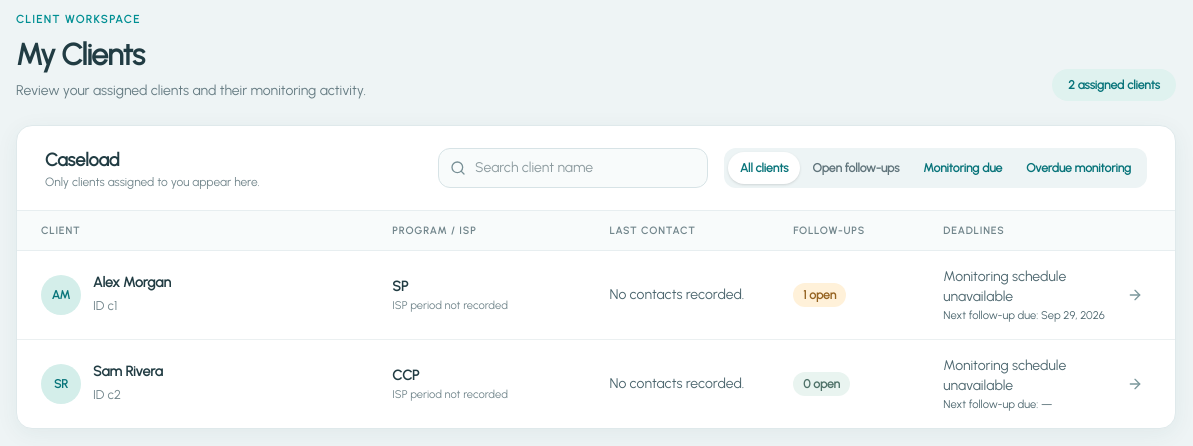
Test: shows assigned clients with missing-data copy and filters locally
expect the text "Alex Morgan" is shown: met, box [93,272,171,292]
expect the text "ISP period not recorded" is shown 2 times: met, box [392,298,508,312]; [392,386,508,400]
Click the button "Open follow-ups" at (856, 168), box [800,152,911,184]
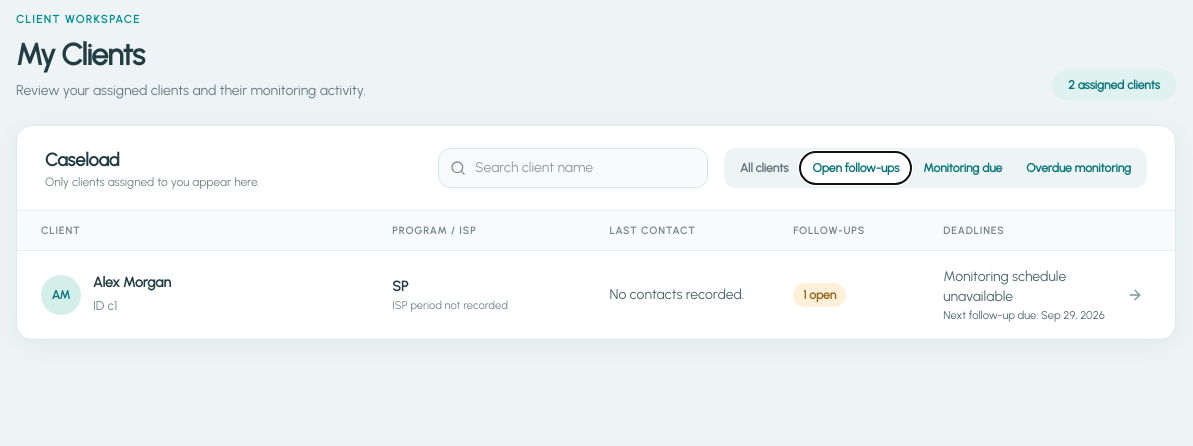
expect the link "Sam Rivera" is gone: met
Type "missing" into the search field named "Search clients" at (573, 168), box [438,148,708,188]
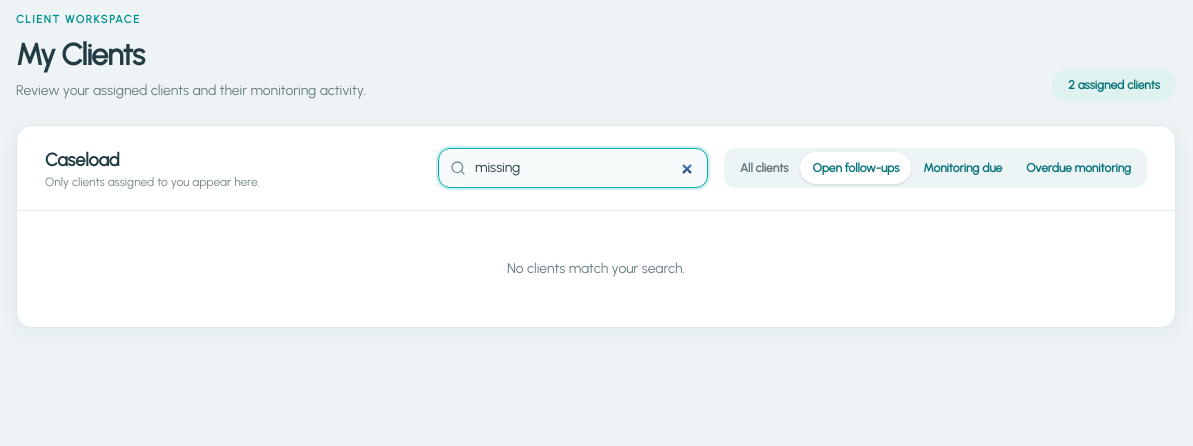
expect the text "No clients match your search." is shown: met, box [507,260,685,276]
